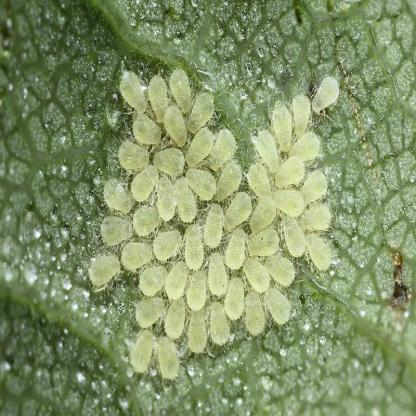aphid: (120, 70, 149, 114), (176, 176, 202, 223), (255, 129, 282, 174), (221, 188, 252, 227), (182, 127, 211, 168), (145, 78, 172, 122), (280, 216, 308, 258), (304, 233, 334, 272), (131, 164, 161, 202), (130, 329, 154, 376), (154, 338, 179, 383), (152, 143, 184, 178), (131, 110, 162, 146), (103, 176, 133, 213), (210, 128, 236, 170), (269, 103, 292, 150), (186, 94, 216, 130), (164, 108, 191, 148), (86, 254, 122, 284), (244, 285, 265, 336), (97, 212, 132, 242), (274, 184, 304, 219), (312, 74, 338, 114), (208, 297, 229, 346), (288, 130, 319, 163), (302, 202, 336, 232), (155, 176, 177, 222), (189, 306, 210, 354), (224, 228, 246, 272), (184, 166, 214, 198), (244, 165, 274, 197), (274, 157, 308, 185), (243, 259, 270, 294), (266, 287, 290, 326), (119, 141, 149, 172), (266, 255, 295, 287), (132, 295, 164, 324), (187, 269, 208, 312), (151, 230, 181, 260), (226, 275, 246, 320), (204, 204, 224, 248), (217, 160, 240, 198), (138, 264, 167, 294), (249, 231, 280, 259), (118, 241, 150, 268), (166, 295, 184, 343), (208, 251, 227, 296), (170, 68, 191, 108), (291, 95, 312, 135), (302, 171, 327, 203), (186, 224, 204, 268), (133, 206, 165, 230), (251, 196, 275, 228), (166, 264, 188, 298)
